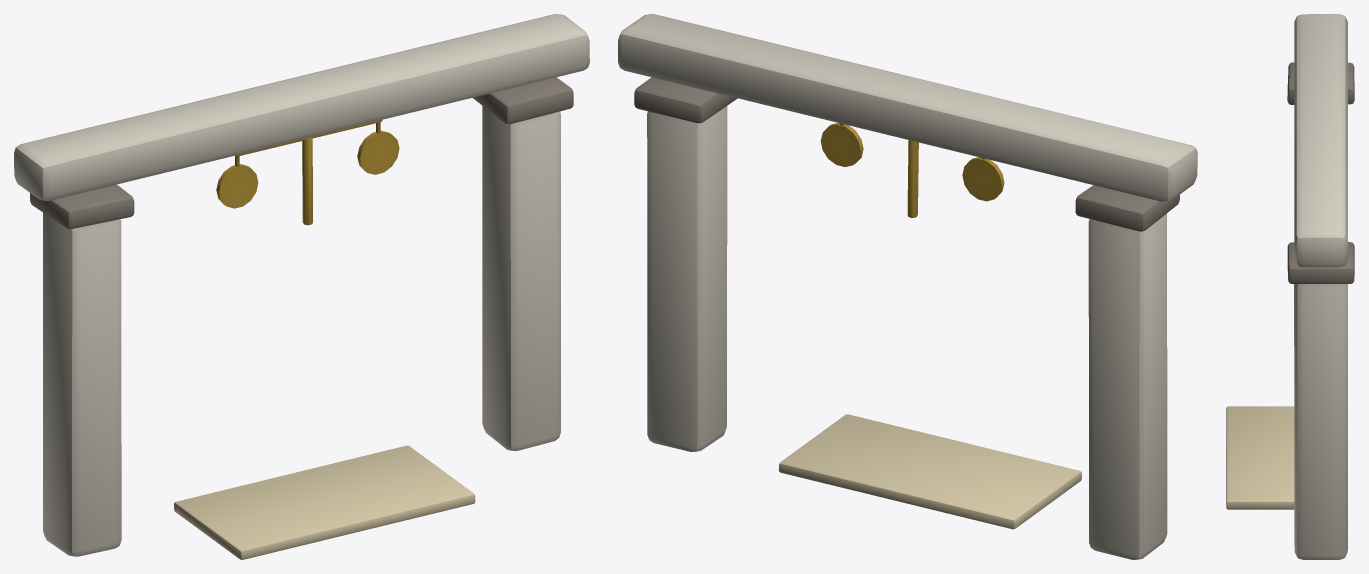
3 renders of one model, left to right at view 1: azimuth 30°, elevation 25°; view 2: azimuth 150°, elevation 25°; view 3: azimuth 270°, elevation 25°, orthographic. The views are drawn at different scales.
Visible parts, largest first — view 1: gate_956d6527; view 2: gate_956d6527; view 3: gate_956d6527.
Part boxes in pixels (x1,y1,x2,y2): gate_956d6527: (14, 14, 589, 559); gate_956d6527: (618, 14, 1197, 559); gate_956d6527: (1226, 14, 1354, 559).
Size of the model in its own units: 5.63 by 3.94 by 1.35.
